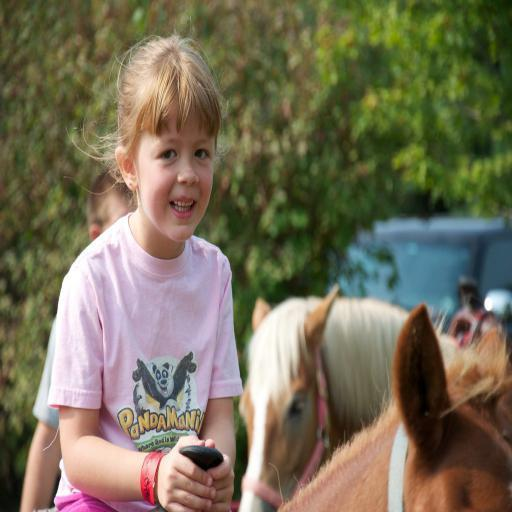horse: (238, 280, 464, 512), (276, 300, 512, 512)
